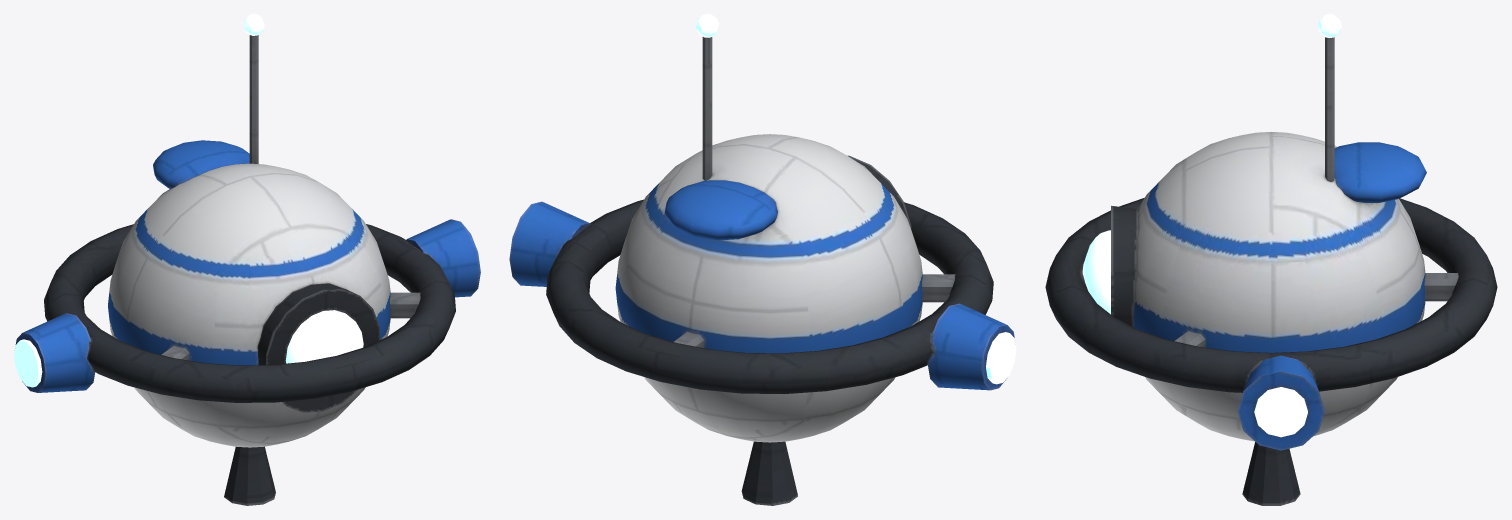
File: probe.glb
3 views of the same model, side by side, from view 1: azimuth 30°, elevation 25°; view 2: azimuth 150°, elevation 25°; view 3: azimuth 270°, elevation 25° (orthographic). The views are drawn at different scales.
Parts seen in each view (by area): view 1: Probe; view 2: Probe; view 3: Probe.
Boxes of the visible parts, left/top/right/bottom form: Probe: left=14, top=14, right=480, bottom=505; Probe: left=509, top=14, right=1016, bottom=505; Probe: left=1045, top=14, right=1497, bottom=505.
Size of the model in its own units: 1.14 by 1.13 by 0.93.
Materials: 2 (1 with a texture image).
